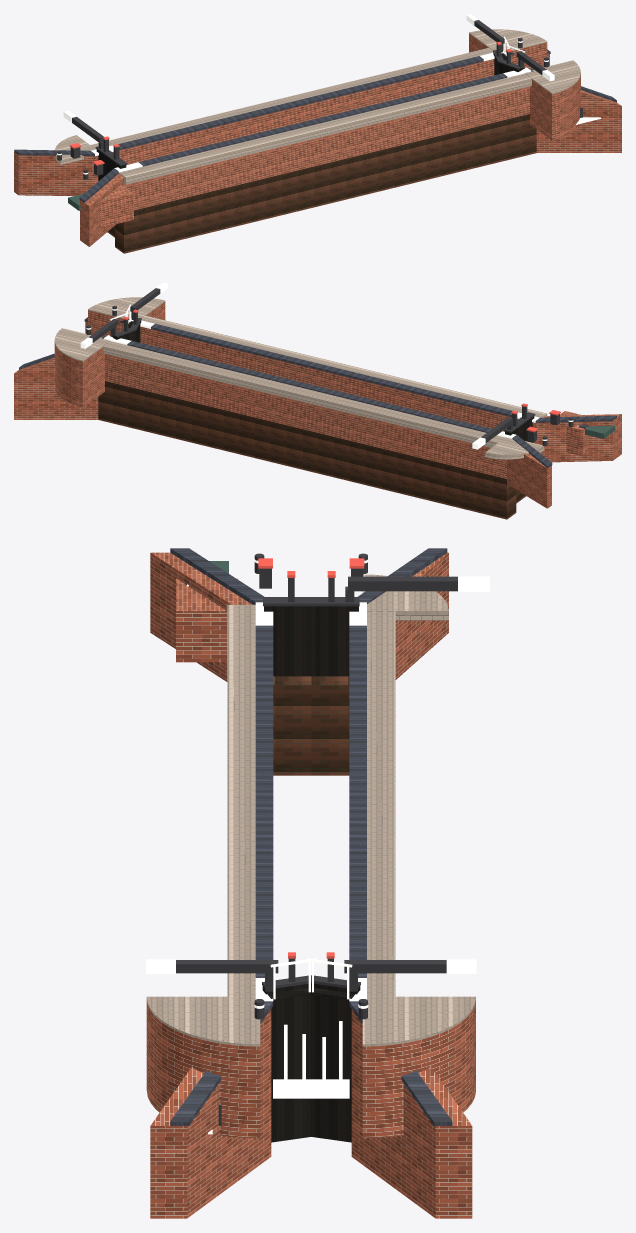
Rendered from lock-41.glb.
3 renders of one model, top to bottom at view 1: azimuth 30°, elevation 25°; view 2: azimuth 150°, elevation 25°; view 3: azimuth 270°, elevation 25°, orthographic. The views are drawn at different scales.
Parts seen in each view (by area): view 1: Chamber, ChamberWet, Edge, Coping.001, TopGateCap, Coping, TopGate; view 2: Chamber, ChamberWet, Edge, Coping.001, TopGateCap, Coping, TopGate; view 3: Chamber, Edge, Coping.001, TopGate, TopGateCap, ChamberWet, Coping, Leak.
Boxes of the visible parts, x1,y1,x2,y2 form: Chamber: (14,34,621,246); ChamberWet: (107,114,536,253); Edge: (55,29,580,184); Coping.001: (14,49,616,202); TopGateCap: (57,20,582,179); Coping: (57,14,554,174); TopGate: (96,53,524,180); Chamber: (14,302,621,508); ChamberWet: (98,381,526,519); Edge: (54,297,547,459); Coping.001: (19,317,616,468); TopGateCap: (86,288,573,446); Coping: (80,282,573,449); TopGate: (110,321,534,442); Chamber: (146,552,475,1218); Edge: (146,574,475,1046); Coping.001: (170,548,452,1125); TopGate: (262,606,360,1142); TopGateCap: (176,553,457,1125); ChamberWet: (273,676,349,775); Coping: (146,559,489,1008); Leak: (187,584,349,1134).
Size of the model in its own units: 33.4 by 5.77 by 9.4.
11 materials, 8 textured.
